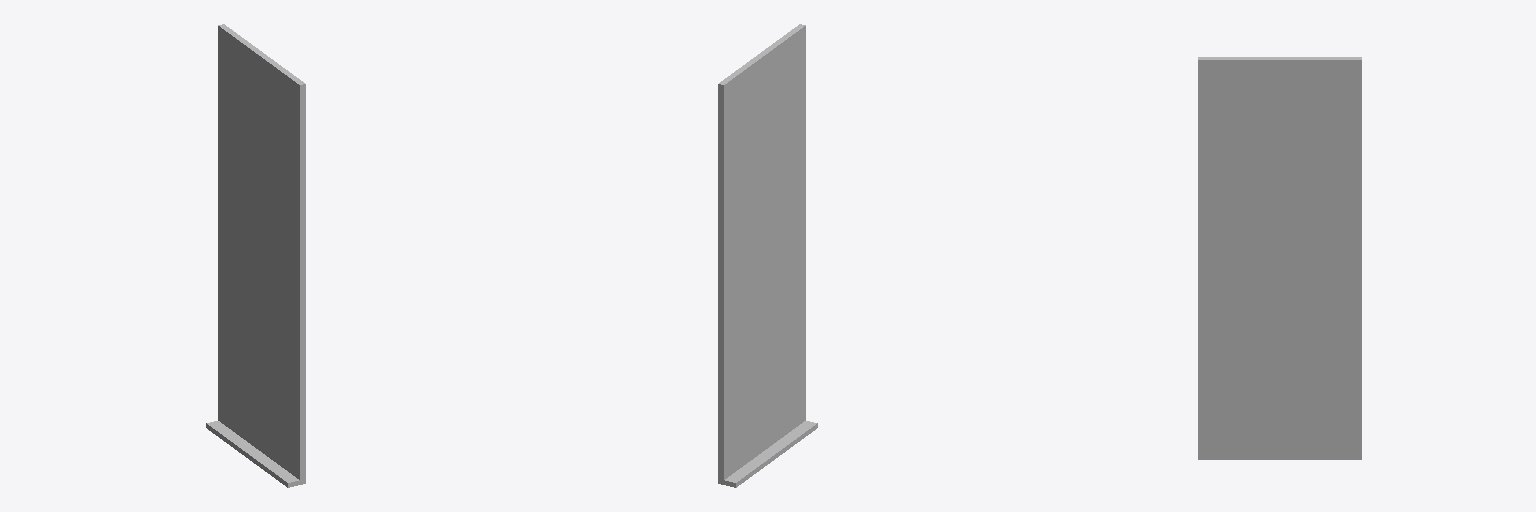
Rendered from sign_billboard.obj.
3 views of the same model, side by side, from view 1: azimuth 30°, elevation 25°; view 2: azimuth 150°, elevation 25°; view 3: azimuth 270°, elevation 25° (orthographic).
Visible parts, largest first — view 1: sign_billboard; view 2: sign_billboard; view 3: sign_billboard.
Part boxes in pixels (left/top/right/bottom): sign_billboard: left=206, top=24, right=305, bottom=487; sign_billboard: left=718, top=24, right=817, bottom=487; sign_billboard: left=1198, top=57, right=1361, bottom=459.
Bounding box in the file's own units: 0.075 × 1.62 × 0.6.